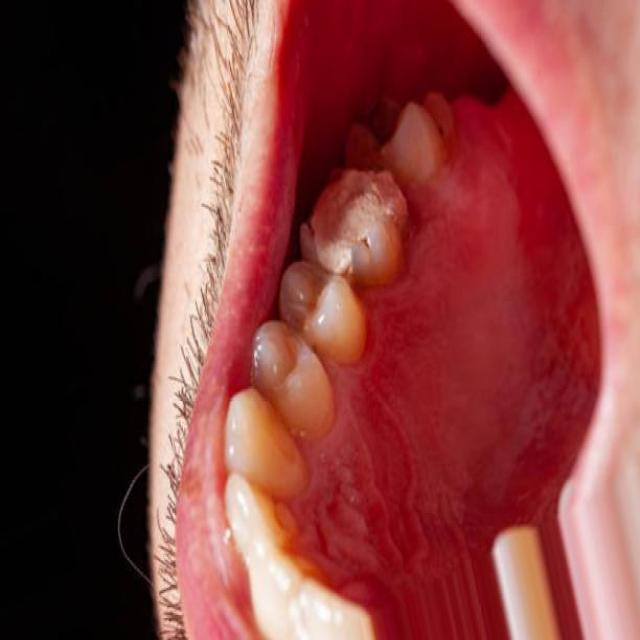caries: (298, 163, 408, 261)
